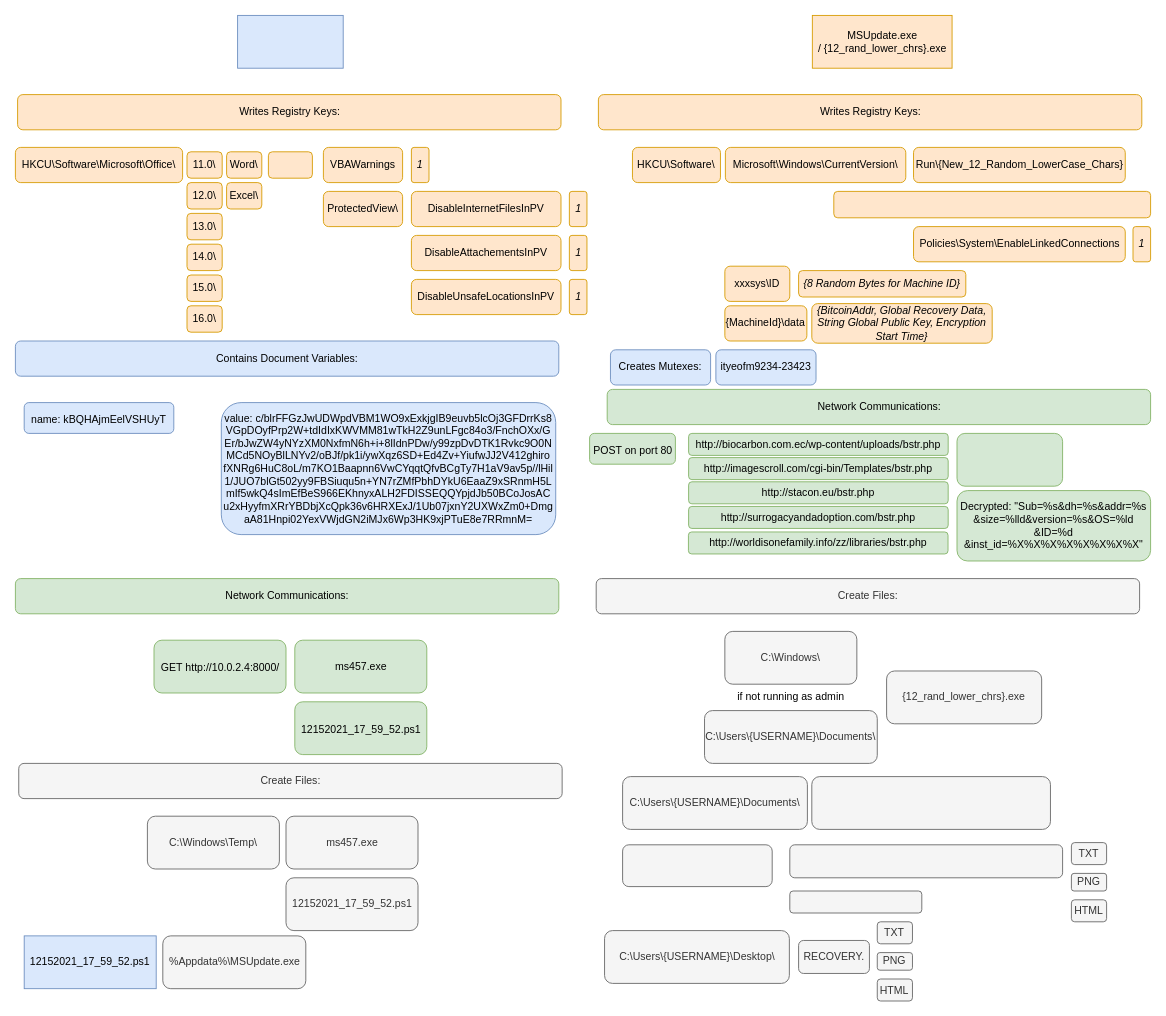
This 1166x1016 diagram has some shape labels left out. Here are the shapes that lost their labels. From the top down, the centre of each, then its label:
point 290,41: Anual Report.docm
point 290,164: Security\
point 992,204: C:\Windows\system32\cmd.exe /c start "" "{CURR_EXE_PATH}"
point 1009,459: Encrypted: data={AES-128-CBC encrypted hexstring}
point 930,802: recover_file_{9_random_lowercase_chars}.txt
point 697,865: All Directories (with some exceptions)
point 926,861: _RECOVERY_+{5_RANDOM_LOWERCASE_CHARS}.
point 855,901: *.mp3 (for encrypted files)
